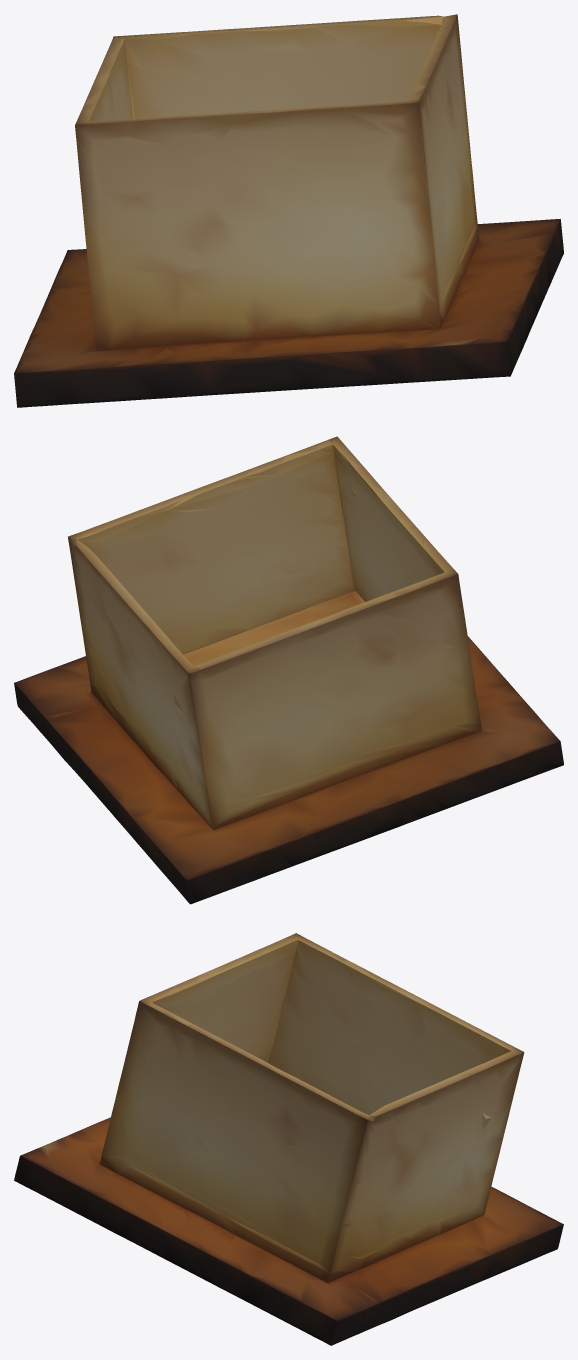
File: step2_original_mesh_00.obj
3 renders of one model, top to bottom at view 1: azimuth 30°, elevation 25°; view 2: azimuth 150°, elevation 25°; view 3: azimuth 270°, elevation 25°, orthographic. The views are drawn at different scales.
Size of the model in its own units: 0.3499 by 0.1952 by 0.3462.
